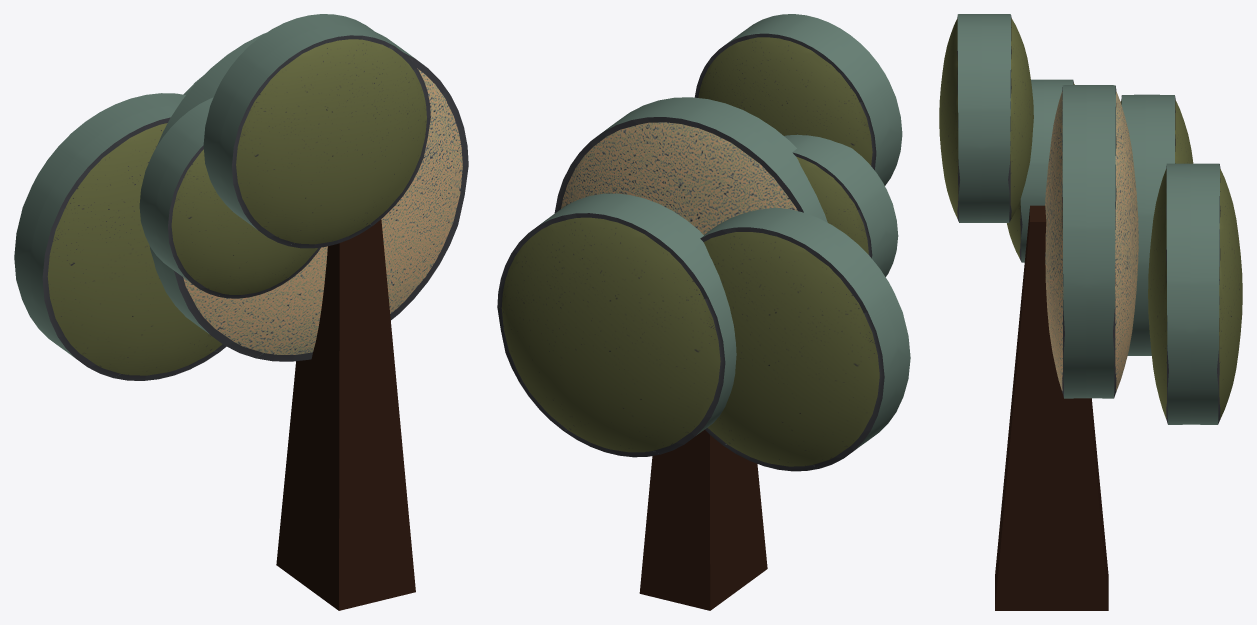
File: Tree 05.fbx
3 renders of one model, left to right at view 1: azimuth 30°, elevation 25°; view 2: azimuth 150°, elevation 25°; view 3: azimuth 270°, elevation 25°, orthographic. The views are drawn at different scales.
Visible parts, largest first — view 1: tree_75_03, tree_75_trunk, tree_75_04, tree_75_02, tree_75_00; view 2: tree_75_01, tree_75_04, tree_75_02, tree_75_03, tree_75_trunk, tree_75_00; view 3: tree_75_trunk, tree_75_02, tree_75_01, tree_75_03, tree_75_04, tree_75_00.
Boxes of the visible parts, bbox=[...] form: tree_75_03: bbox=[203, 14, 430, 248]; tree_75_trunk: bbox=[276, 219, 415, 610]; tree_75_04: bbox=[14, 93, 226, 380]; tree_75_02: bbox=[149, 32, 468, 361]; tree_75_00: bbox=[139, 97, 320, 298]; tree_75_01: bbox=[497, 193, 736, 457]; tree_75_04: bbox=[700, 207, 910, 471]; tree_75_02: bbox=[554, 97, 827, 234]; tree_75_03: bbox=[694, 14, 902, 185]; tree_75_trunk: bbox=[639, 429, 767, 610]; tree_75_00: bbox=[784, 134, 898, 276]; tree_75_trunk: bbox=[995, 205, 1108, 610]; tree_75_02: bbox=[1045, 85, 1138, 398]; tree_75_01: bbox=[1148, 163, 1242, 424]; tree_75_03: bbox=[939, 14, 1033, 222]; tree_75_04: bbox=[1120, 94, 1193, 355]; tree_75_00: bbox=[1007, 79, 1074, 262].
Bounding box in the file's own units: 15.94 × 22.76 × 11.59.
